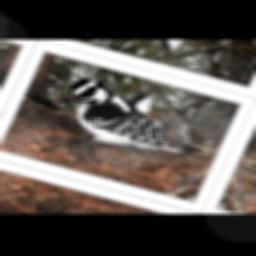Woodpecker: (45, 73, 225, 179)
